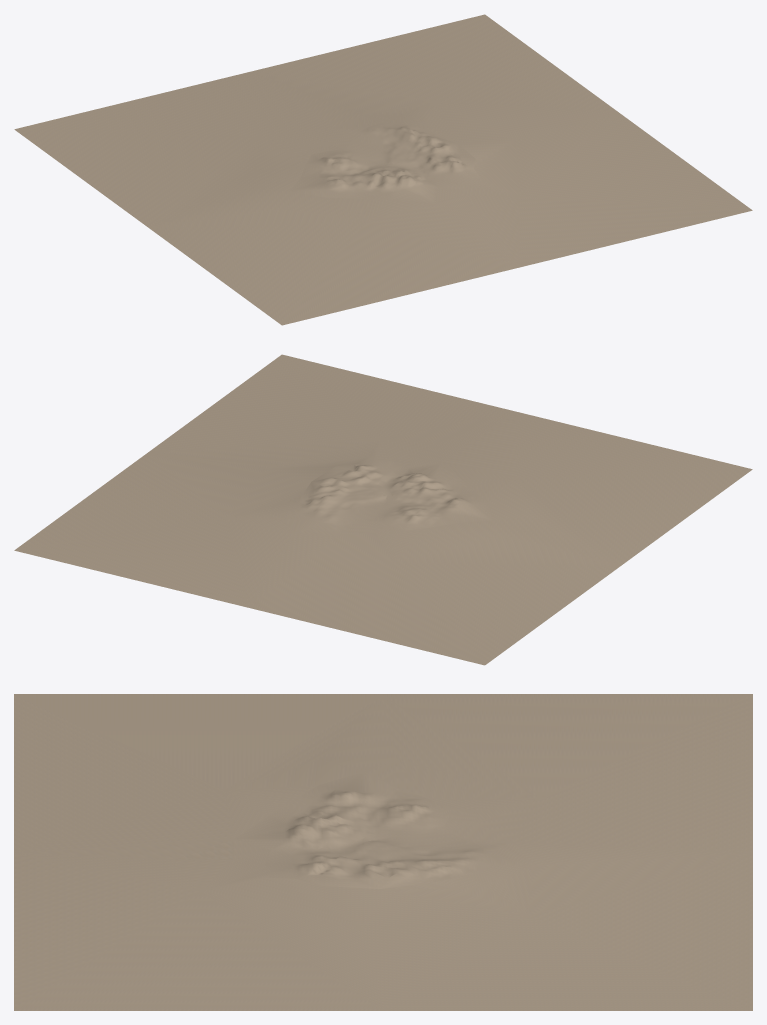
The model's file is M_shatan02.FBX.
3 renders of one model, top to bottom at view 1: azimuth 30°, elevation 25°; view 2: azimuth 150°, elevation 25°; view 3: azimuth 270°, elevation 25°, orthographic. The views are drawn at different scales.
Visible parts, largest first — view 1: M_shatan02_02, M_shatan02_01; view 2: M_shatan02_02, M_shatan02_01; view 3: M_shatan02_02, M_shatan02_01.
Boxes of the visible parts, bbox=[...] form: M_shatan02_02: bbox=[14, 14, 752, 325]; M_shatan02_01: bbox=[289, 123, 480, 202]; M_shatan02_02: bbox=[14, 354, 752, 665]; M_shatan02_01: bbox=[299, 457, 492, 530]; M_shatan02_02: bbox=[14, 694, 752, 1010]; M_shatan02_01: bbox=[234, 772, 490, 888].
Bounding box in the file's own units: 563 × 17.66 × 555.
